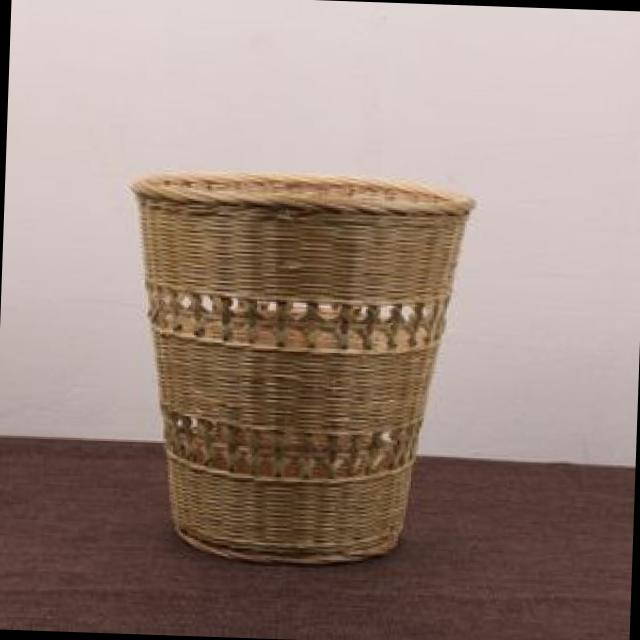dustbin: (111, 159, 482, 576)
